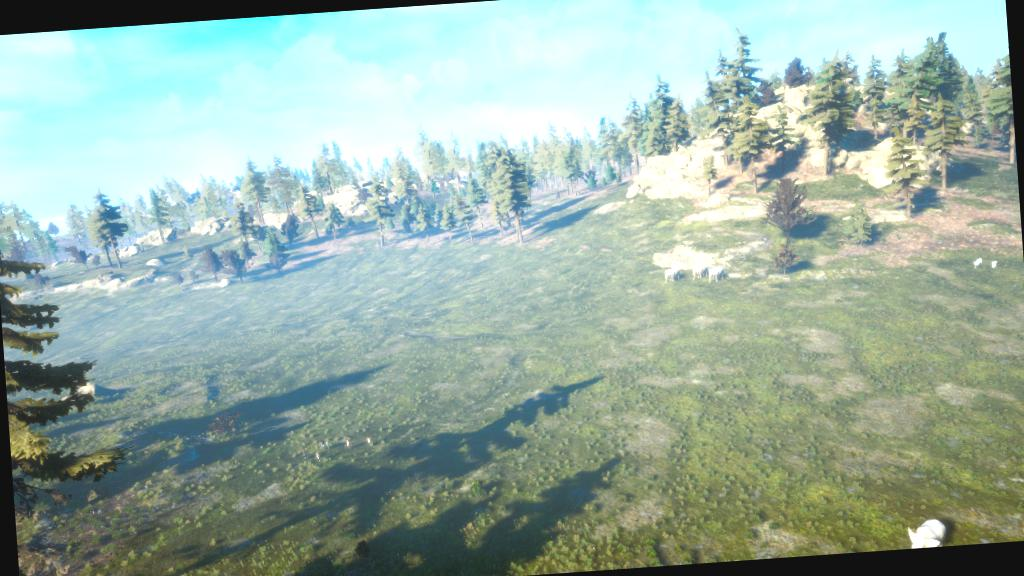elephant: (662, 266, 681, 286), (689, 262, 708, 280), (705, 268, 725, 284)
